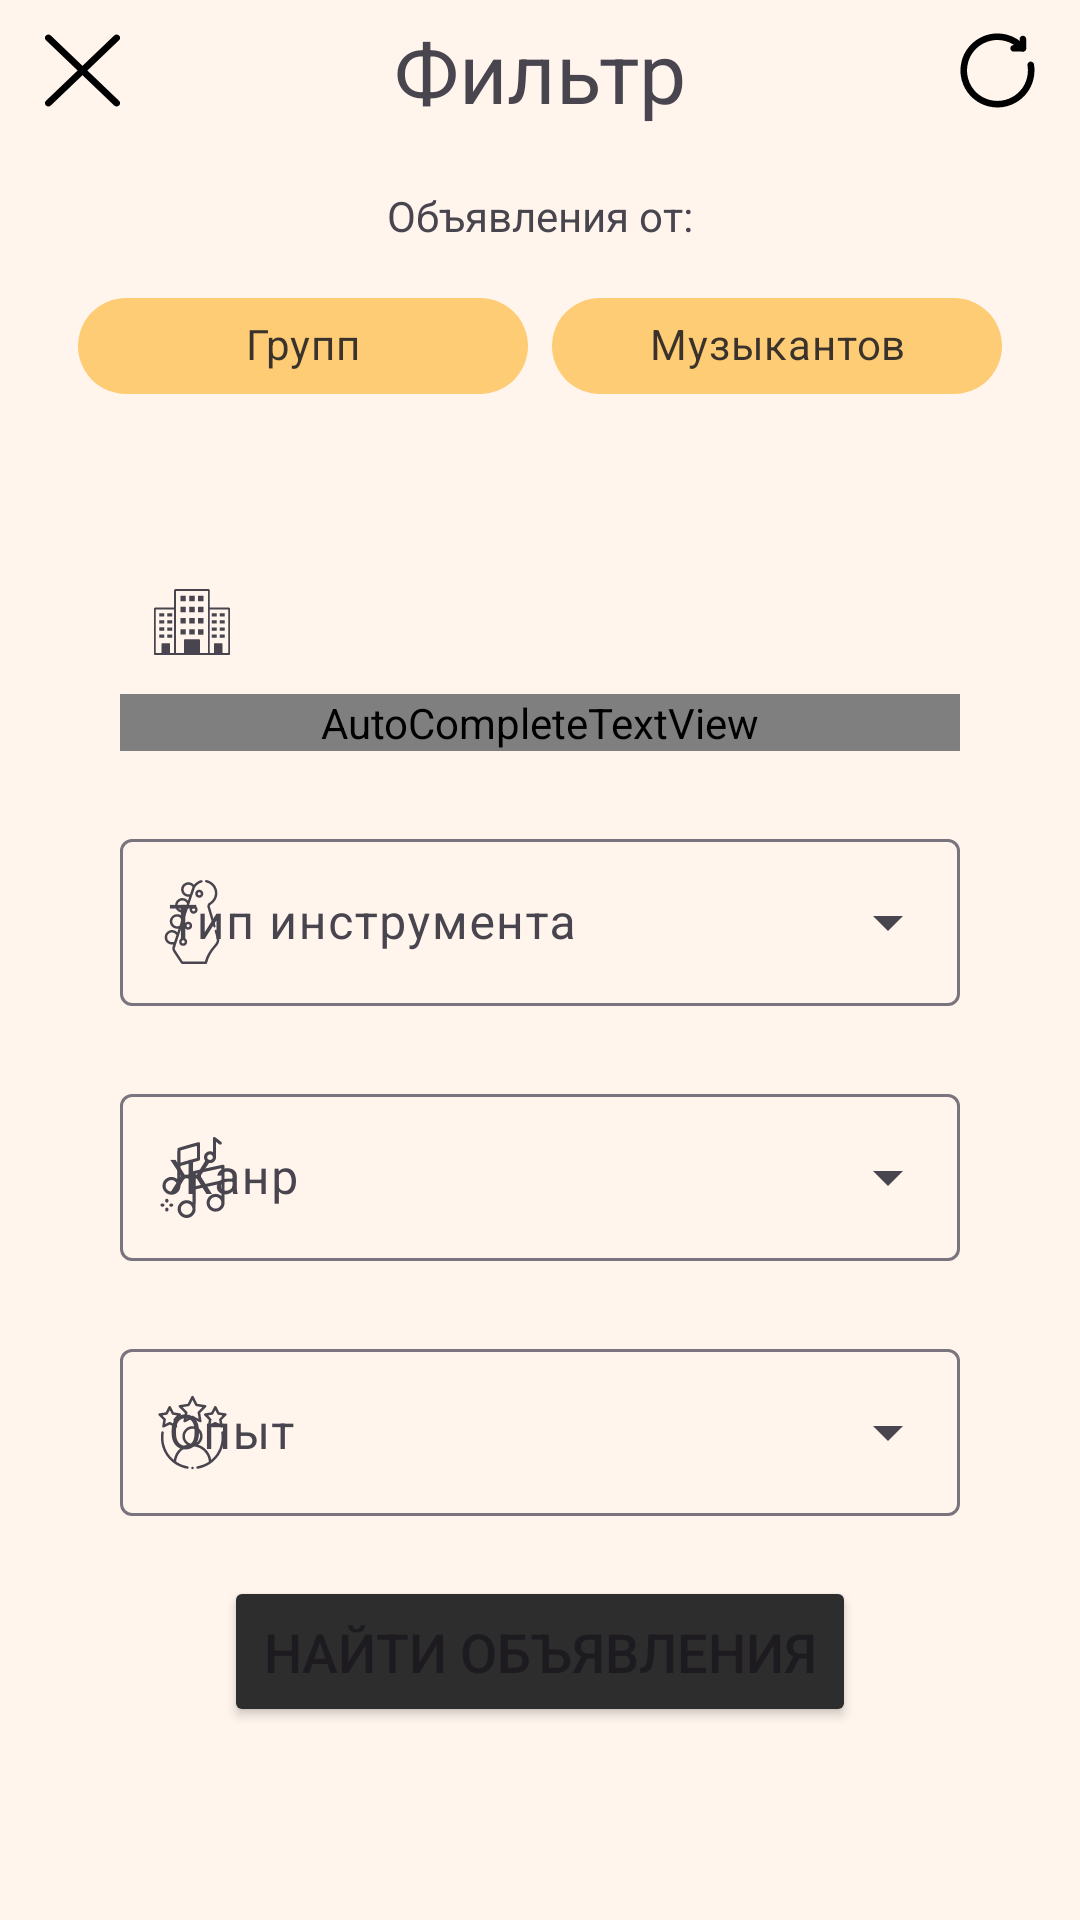

Screen size 1080 × 1920. Icon name, then its box in pixels as (x1,y1,x2,y2):
close: (45,34,120,107)
reset: (960,33,1035,108)
